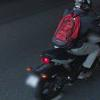Motorcycle: (25, 29, 100, 100)
